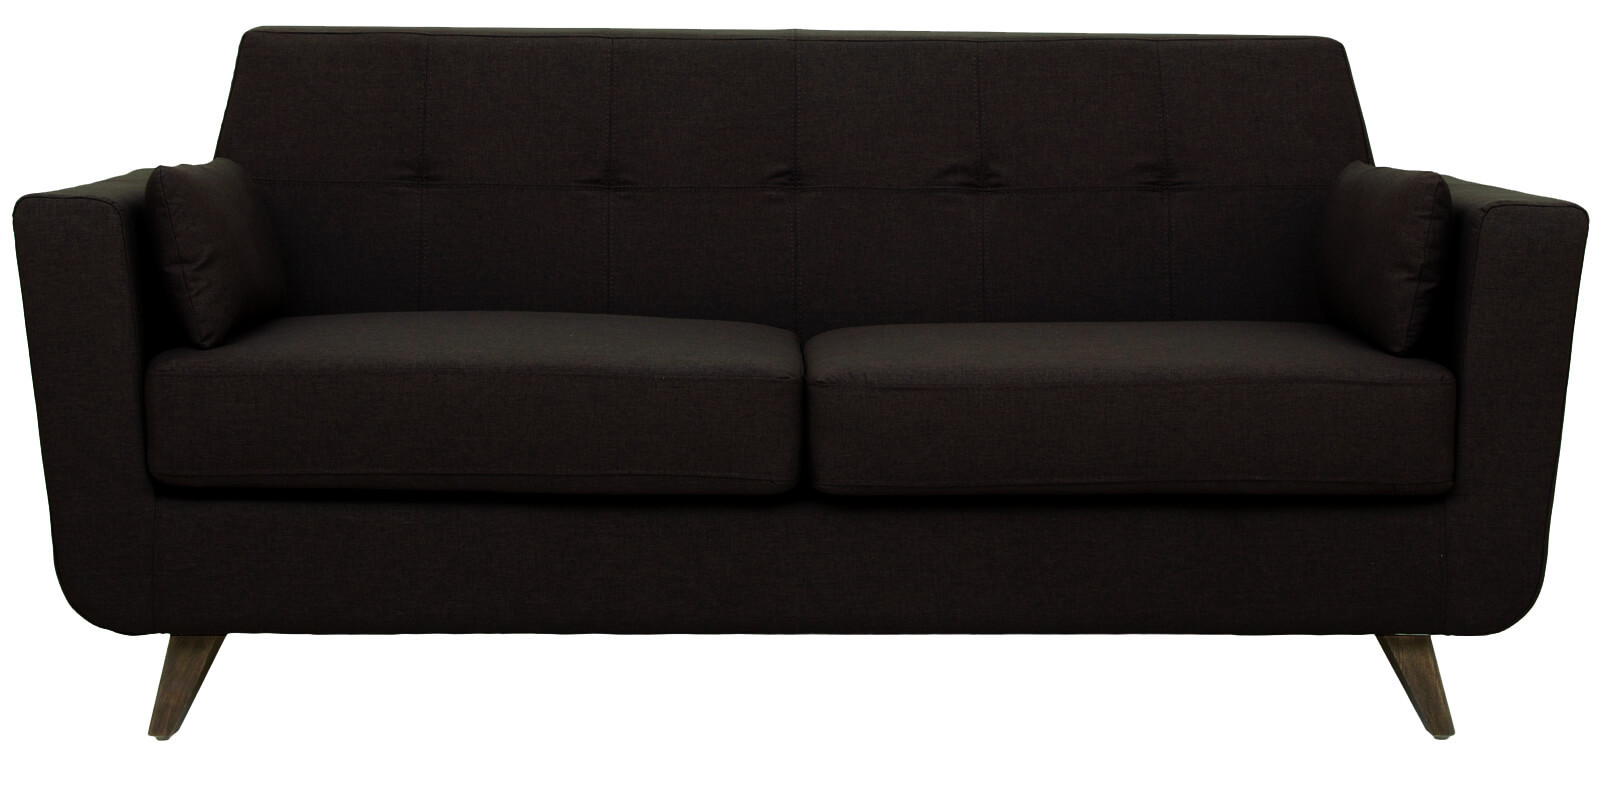Brass Three Seater Sofa in Dark Grey Colour by Furniture Mind: (21, 14, 1592, 719)
